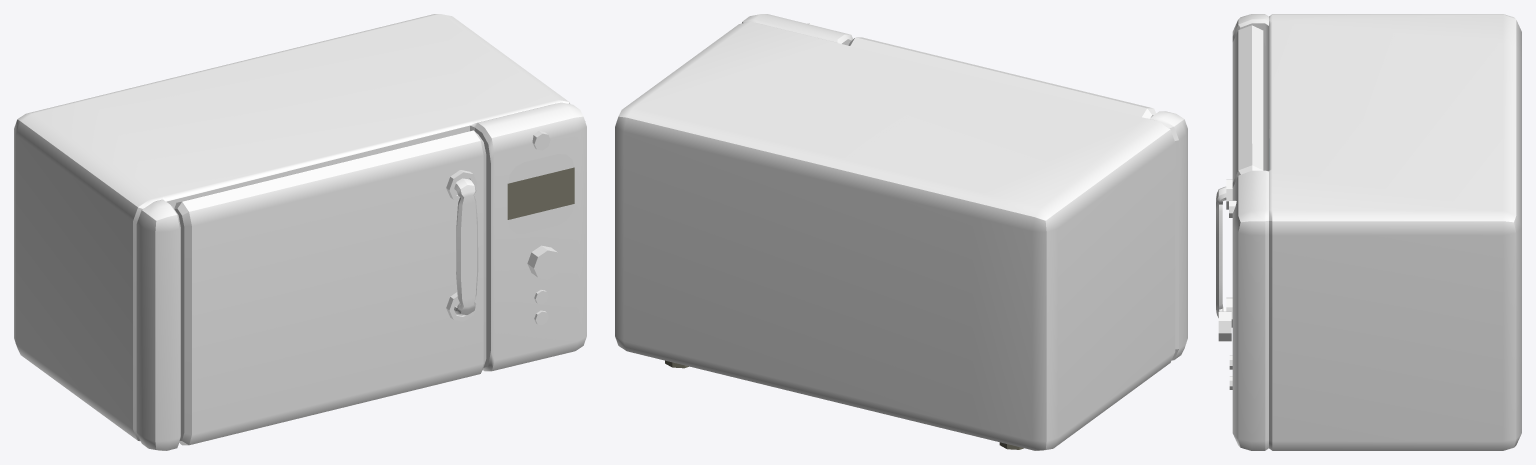
Rendered from PW_microwave.fbx.
3 renders of one model, left to right at view 1: azimuth 30°, elevation 25°; view 2: azimuth 150°, elevation 25°; view 3: azimuth 270°, elevation 25°, orthographic.
Parts seen in each view (by area): view 1: microwave, polySurface26, metal_parts, polySurface23; view 2: microwave, polySurface26; view 3: microwave, polySurface26, polySurface23, metal_parts.
Boxes of the visible parts, x1,y1,x2,y2 form: microwave: (14,14,586,450); polySurface26: (174,130,486,445); metal_parts: (507,131,574,324); polySurface23: (446,170,478,321); microwave: (615,14,1187,450); polySurface26: (848,37,1155,118); microwave: (1232,14,1521,450); polySurface26: (1232,25,1265,187); polySurface23: (1216,179,1232,327); metal_parts: (1218,200,1236,389).
Bounding box in the file's own units: 109 × 59.74 × 66.63.
2 materials, 2 textured.
